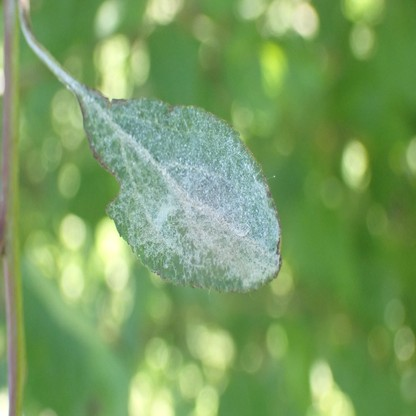powdery_mildew: (78, 88, 280, 291)
